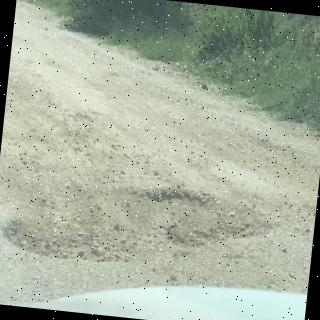pothole: (7, 188, 271, 262)
